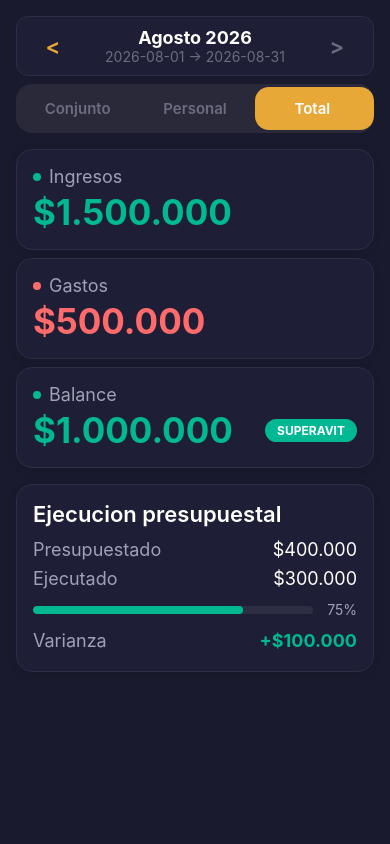
Test: ConsolidatedScreen › renders metrics, the budget section and switches tabs
Expected: the text "Ingresos" is shown, [49,166,122,187]
Expected: the text "Ejecucion presupuestal" is shown, [33,501,282,527]
Click the radio button "Conjunto" at [78, 108], box [45,99,111,118]
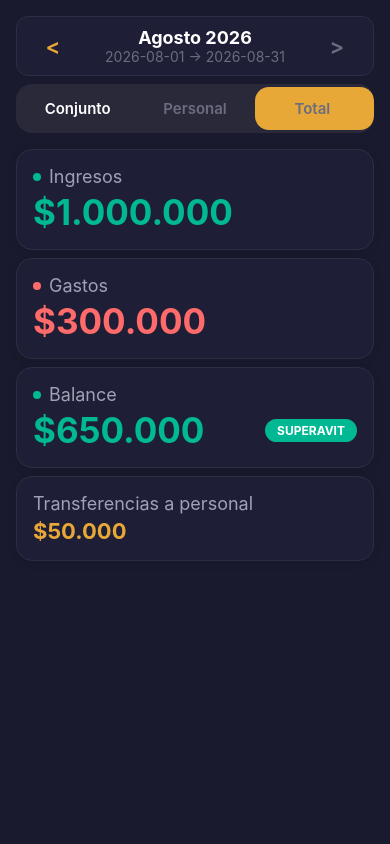
Expected: the text "Transferencias a personal" is shown, [33,493,253,514]
Click the radio button "Personal" at [195, 108], box [163,99,227,118]
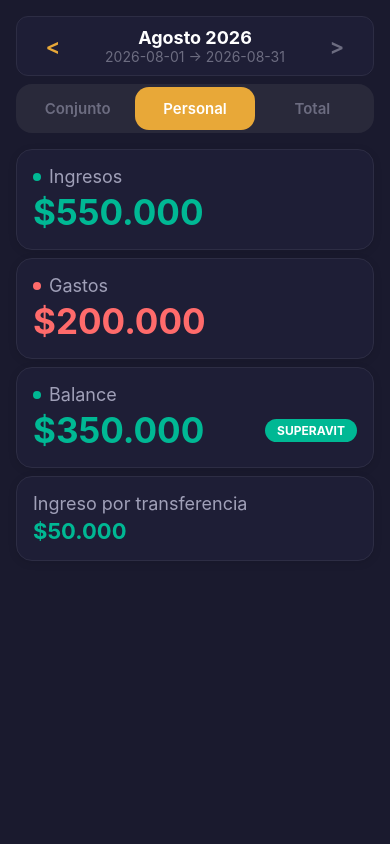
Expected: the text "Ingreso por transferencia" is shown, [33,493,247,514]
